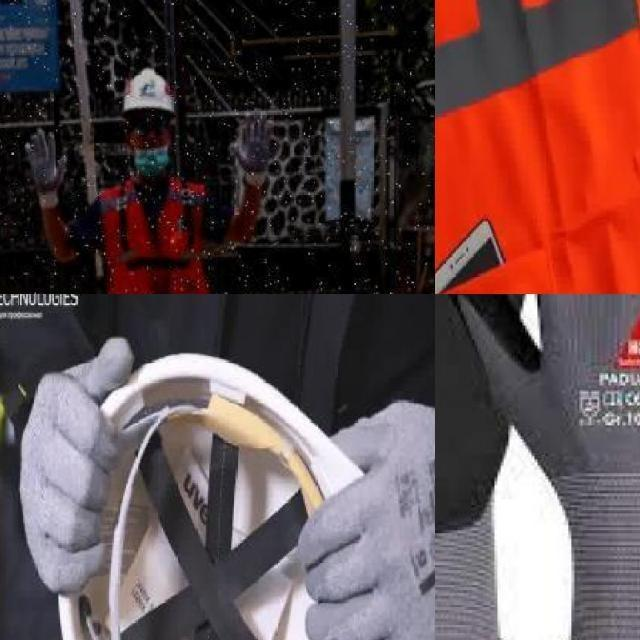apron: (455, 294, 640, 575), (298, 399, 435, 640), (17, 334, 137, 596), (435, 294, 541, 574), (226, 108, 278, 190), (19, 126, 70, 206)
